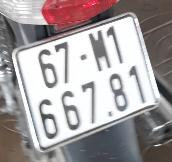1: (102, 21, 132, 68), (124, 60, 151, 107)
6: (33, 46, 62, 92), (56, 87, 85, 133), (34, 95, 62, 142)
7: (50, 38, 79, 87), (77, 79, 105, 126)
8: (104, 68, 134, 116)
M: (83, 25, 116, 78)
